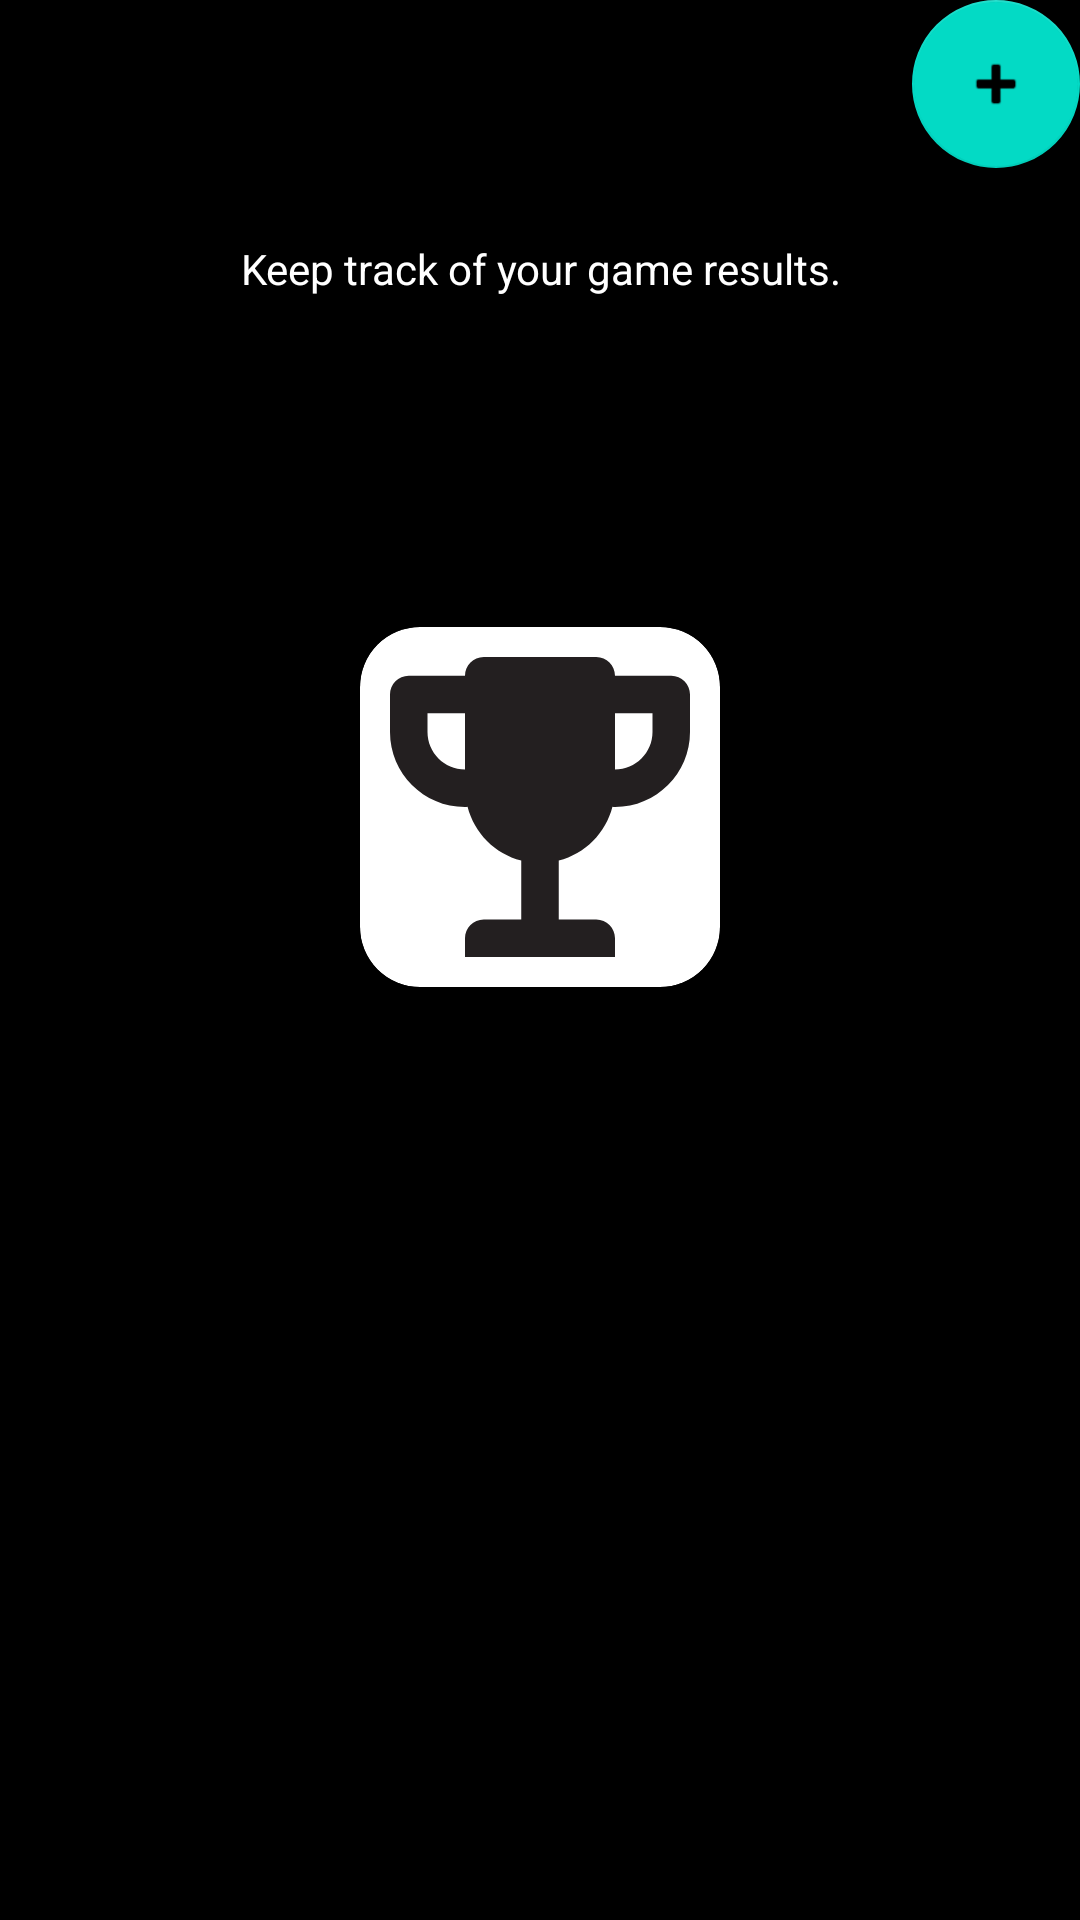

Named icons in this screenshot (1080*1920) and their centers, (x=x, y=y):
Create new record: (x=996, y=84)
Trophy Image: (x=540, y=807)
